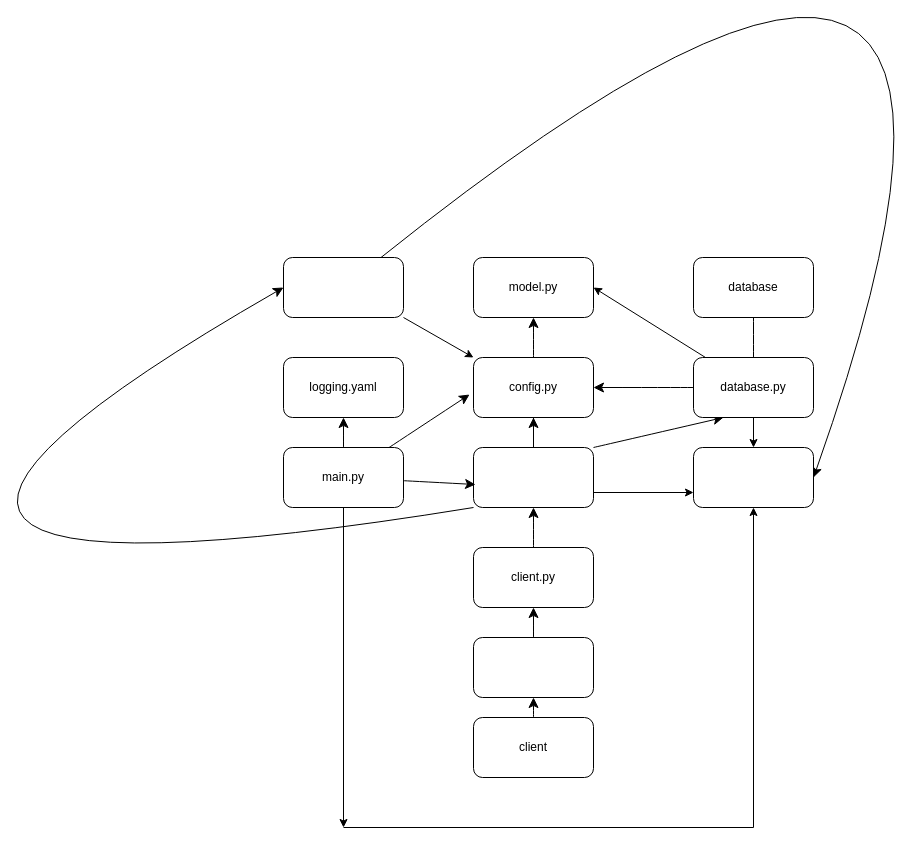
The diagram is 912 pixels wide and 854 high, and some of its shapes have lost their labels. The centre of each missing label's shape, as x and y in pixels:
logging.py: pixel 753 477
sercurity.py: pixel 343 287
server.py: pixel 533 477
syslinkPY: pixel 533 667
